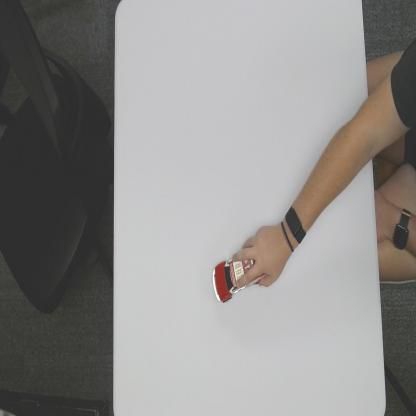Arm: (304, 72, 376, 236)
Firetruck: (211, 257, 266, 305)
Hand: (233, 224, 288, 289)
